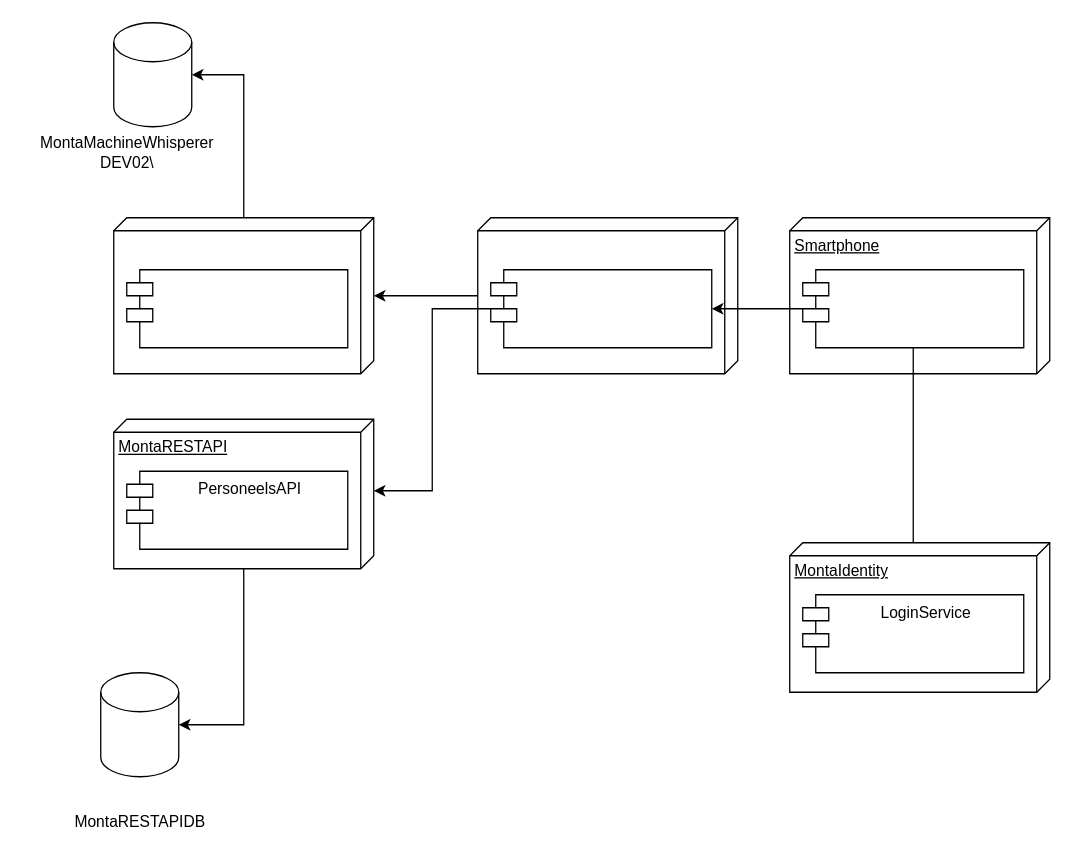
Some shapes in this 1073 by 864 pixel diagram are drawn without their labels. Here are the shapes that lost their labels. From the top down, the centre of each, then its label:
point (236, 308): MachineWhisperer API
point (600, 308): GraphQL
point (912, 308): Xamarin App
